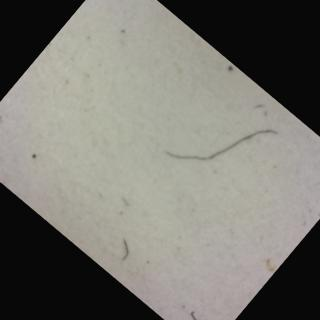Microplastic: (144, 75, 287, 218), (107, 232, 140, 265), (178, 296, 221, 320)
